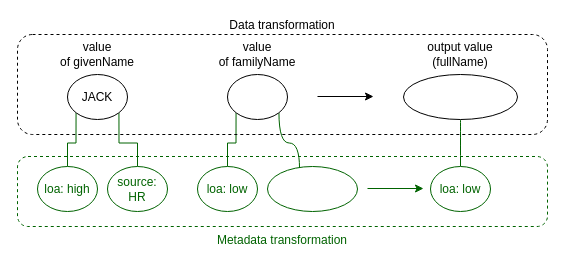
This 565x264 diagram has some shape labels left out. The shapes that lost their labels are listed below. From the top down, each one's centre as x and y in pixels, then its label:
At (257,97): "Sparrow".
At (460,97): "JACK Sparrow".
At (312,189): "source: HR, CRM".
